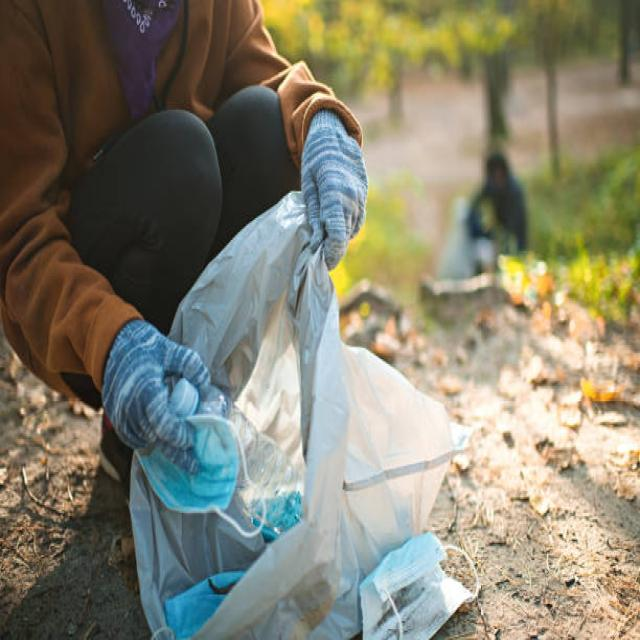plastic: (166, 235, 439, 640), (178, 386, 310, 513)
